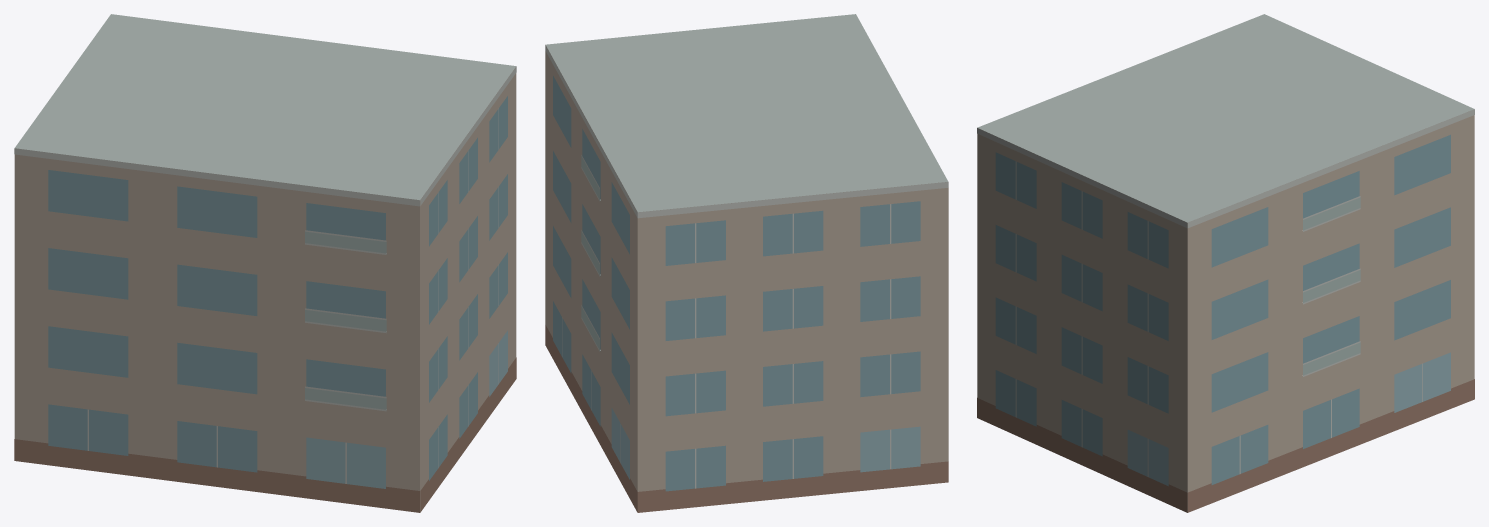
The model's file is residential-09c89bd6-031f-4c00-8047-99aa3b100cbc.glb.
The picture shows the model from 3 angles, left to right: view 1: azimuth 30°, elevation 25°; view 2: azimuth 150°, elevation 25°; view 3: azimuth 270°, elevation 25°; orthographic projection. The views are drawn at different scales.
Visible parts, largest first — view 1: residential-09c89bd6-031f-4c00-8047-99aa3b100cbc.tmp; view 2: residential-09c89bd6-031f-4c00-8047-99aa3b100cbc.tmp; view 3: residential-09c89bd6-031f-4c00-8047-99aa3b100cbc.tmp.
Part boxes in pixels (x1,y1,x2,y2): residential-09c89bd6-031f-4c00-8047-99aa3b100cbc.tmp: [14, 14, 516, 512]; residential-09c89bd6-031f-4c00-8047-99aa3b100cbc.tmp: [545, 14, 948, 512]; residential-09c89bd6-031f-4c00-8047-99aa3b100cbc.tmp: [977, 14, 1474, 512].
Size of the model in its own units: 18.82 by 12.2 by 18.97.
